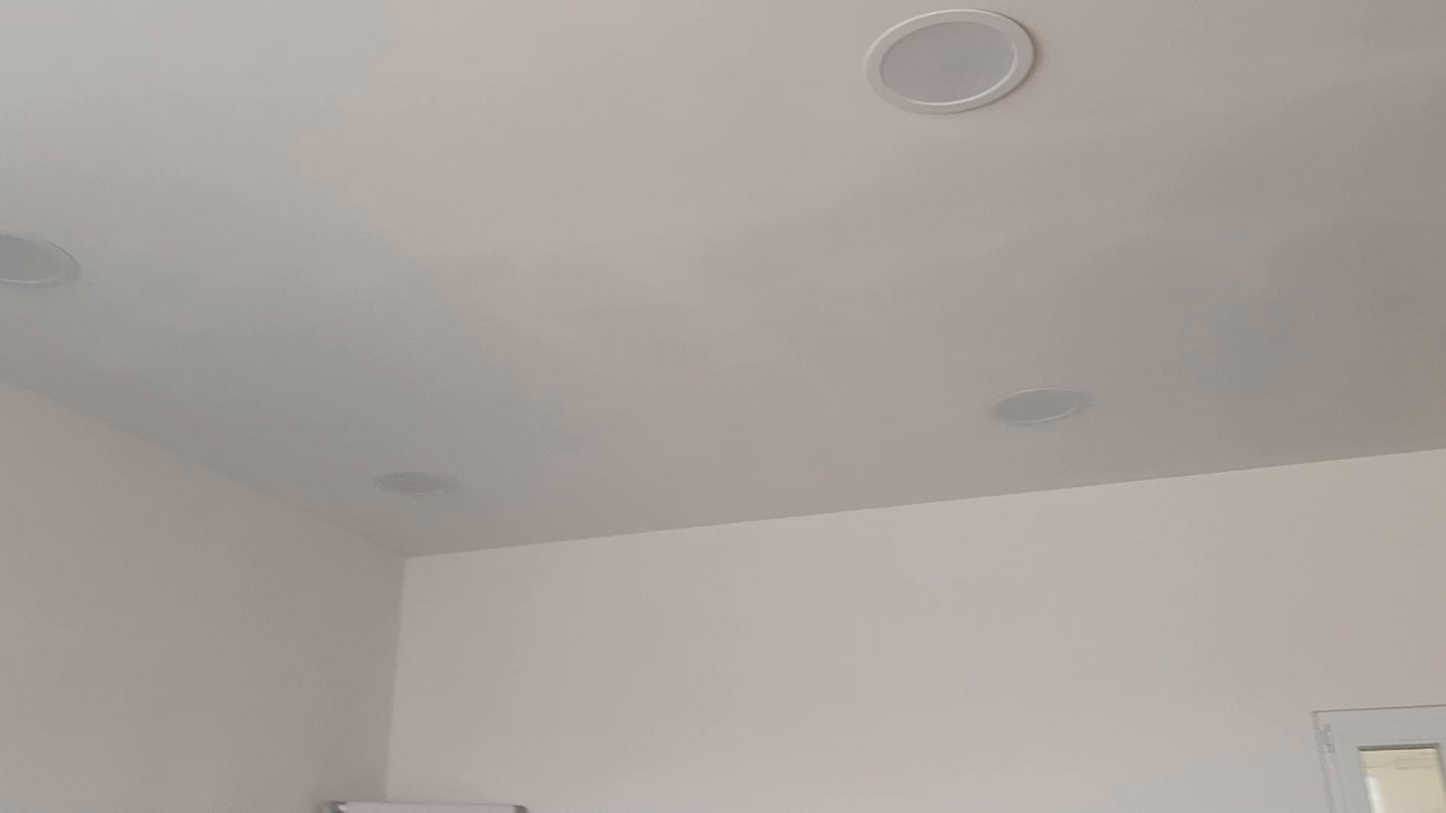ceiling: (0, 5, 1445, 552)
wall: (388, 451, 1445, 812), (0, 379, 402, 812)
